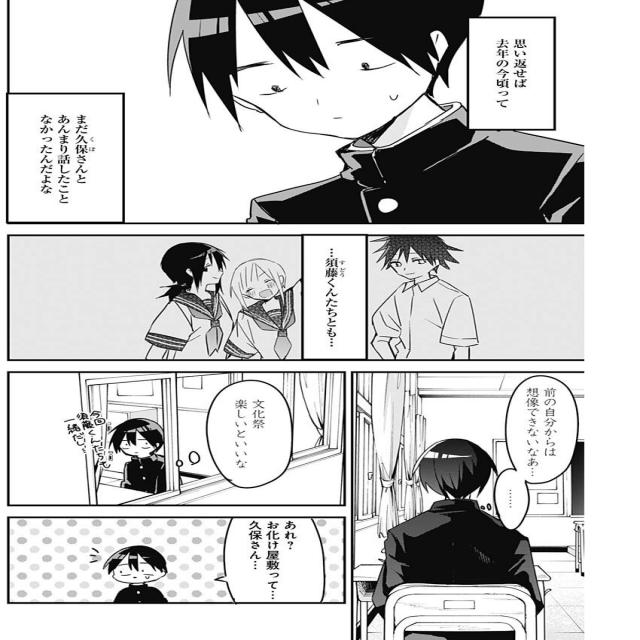Bubble: (6, 92, 126, 224), (466, 16, 557, 131), (215, 516, 326, 605), (209, 379, 294, 489), (301, 234, 368, 360), (505, 374, 579, 484), (492, 468, 530, 531)
